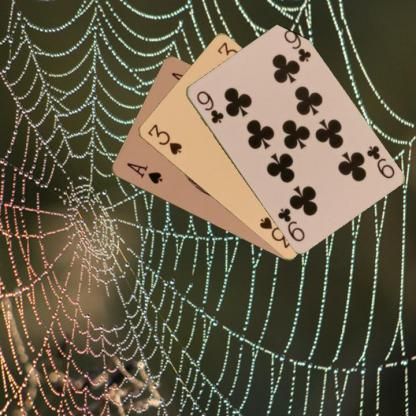3s: (145, 121, 183, 156)
9c: (363, 143, 396, 180), (194, 88, 224, 125)
As: (123, 160, 164, 186)
